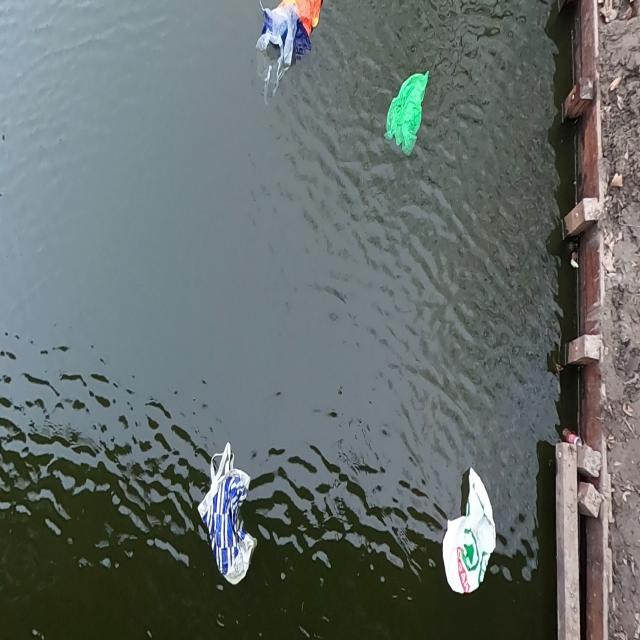Sac plastique: (188, 440, 264, 592), (441, 467, 501, 605), (249, 0, 328, 103), (382, 55, 434, 156)
